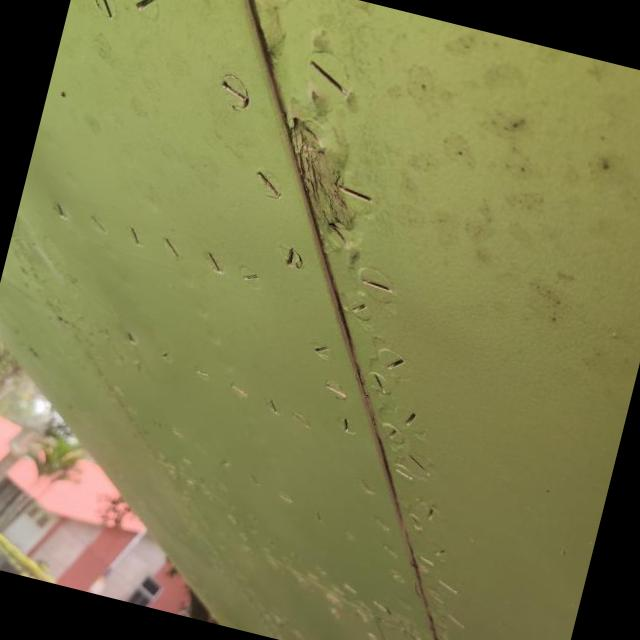Paint-off: (286, 116, 353, 242)
